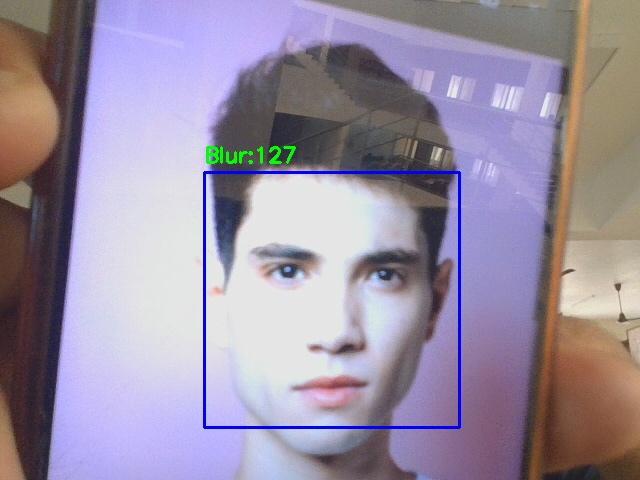fake: (204, 172, 459, 427)
